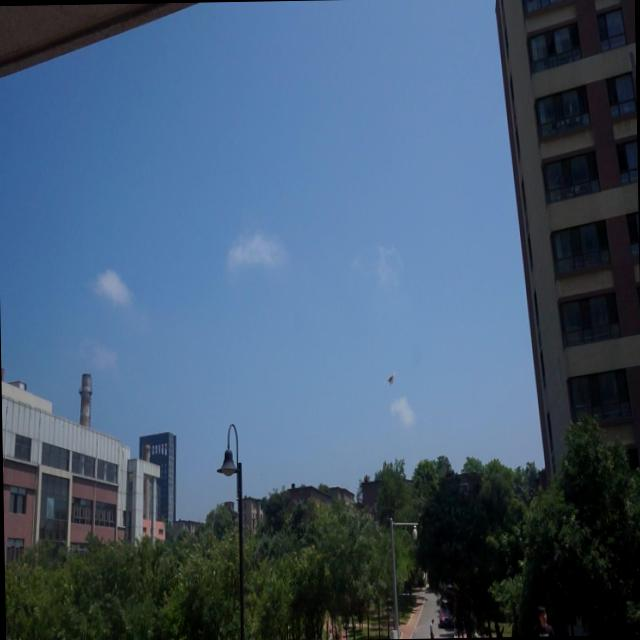drone: (384, 371, 397, 388)
